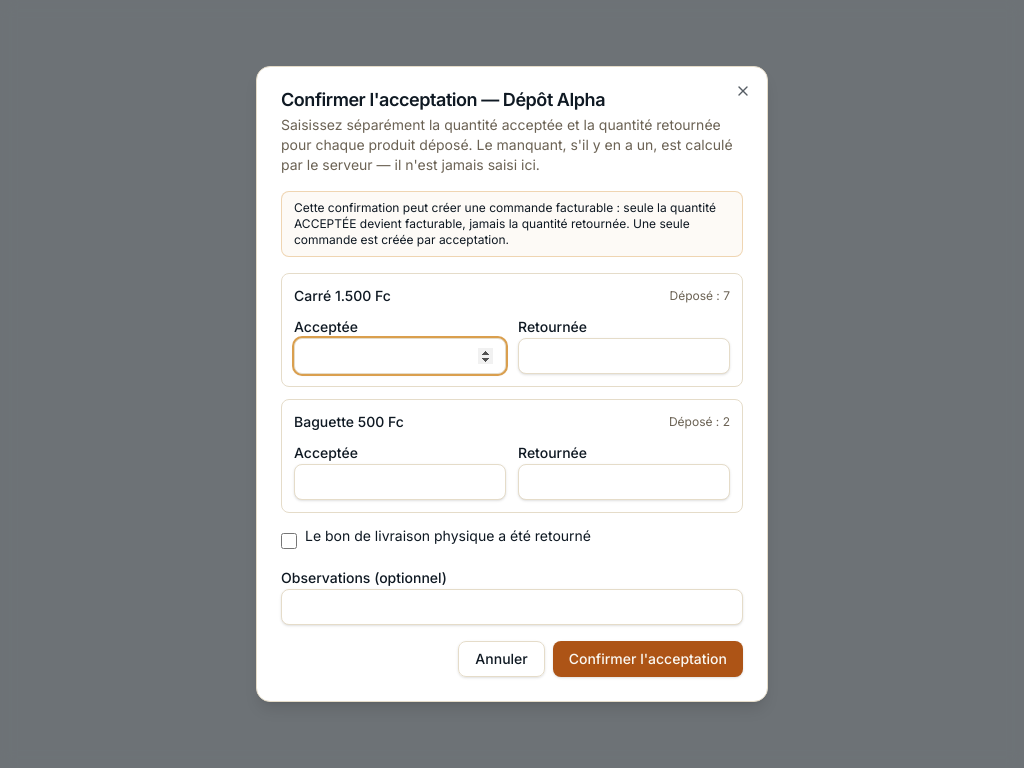
Test: DialogAcceptationCycle — DOM (F5B, vague 3) › succès avec commande créée : message de succès avec numéro et quantité facturable
In the number field labelled "Acceptée" below "Carré 1.500 Fc": (400,356) [294, 338, 506, 374], type "7"
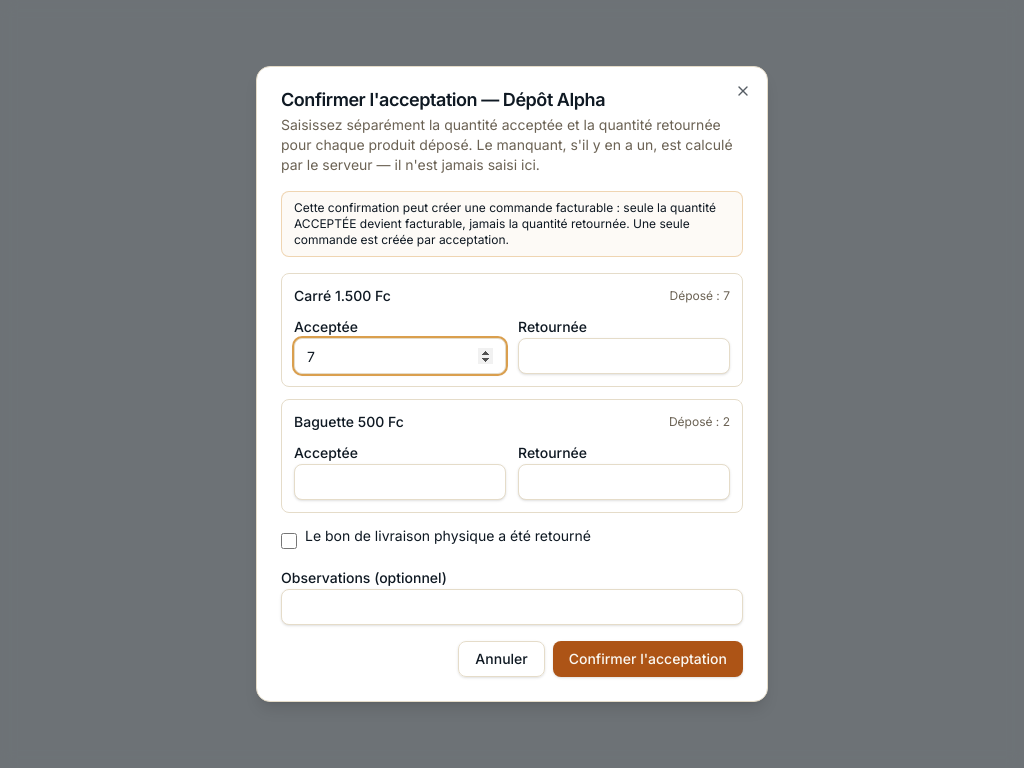
In the number field labelled "Retournée" below "Carré 1.500 Fc": (624,356) [518, 338, 730, 374], type "0"
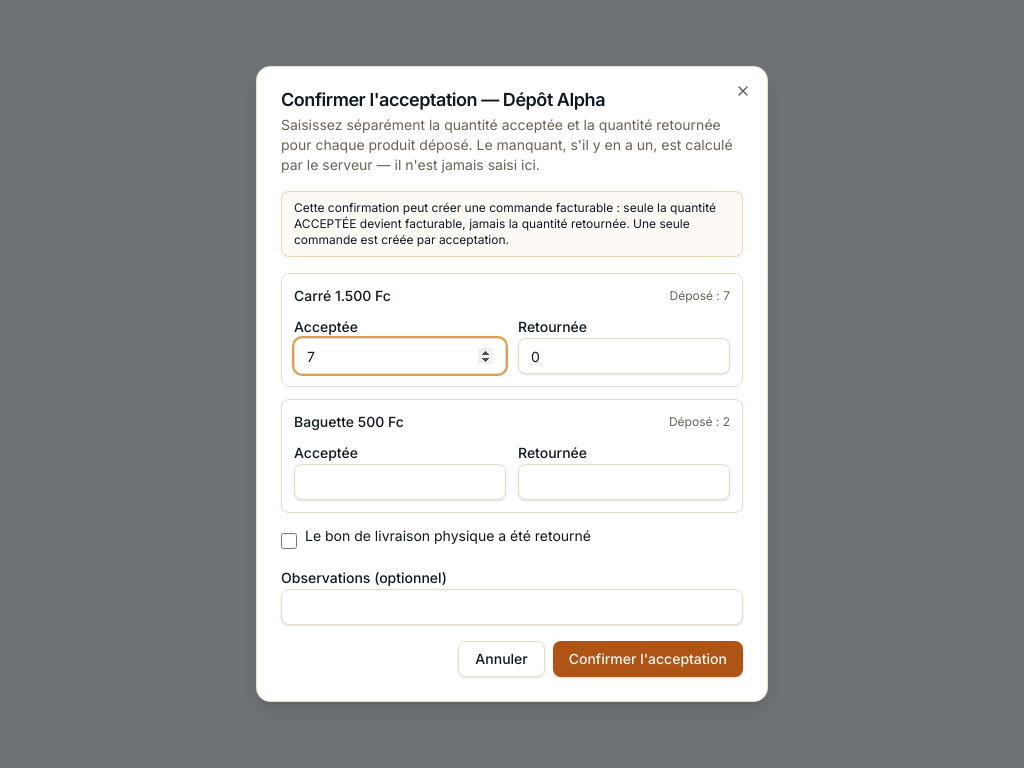
In the number field labelled "Acceptée" below "Baguette 500 Fc": (400,482) [294, 464, 506, 500], type "2"
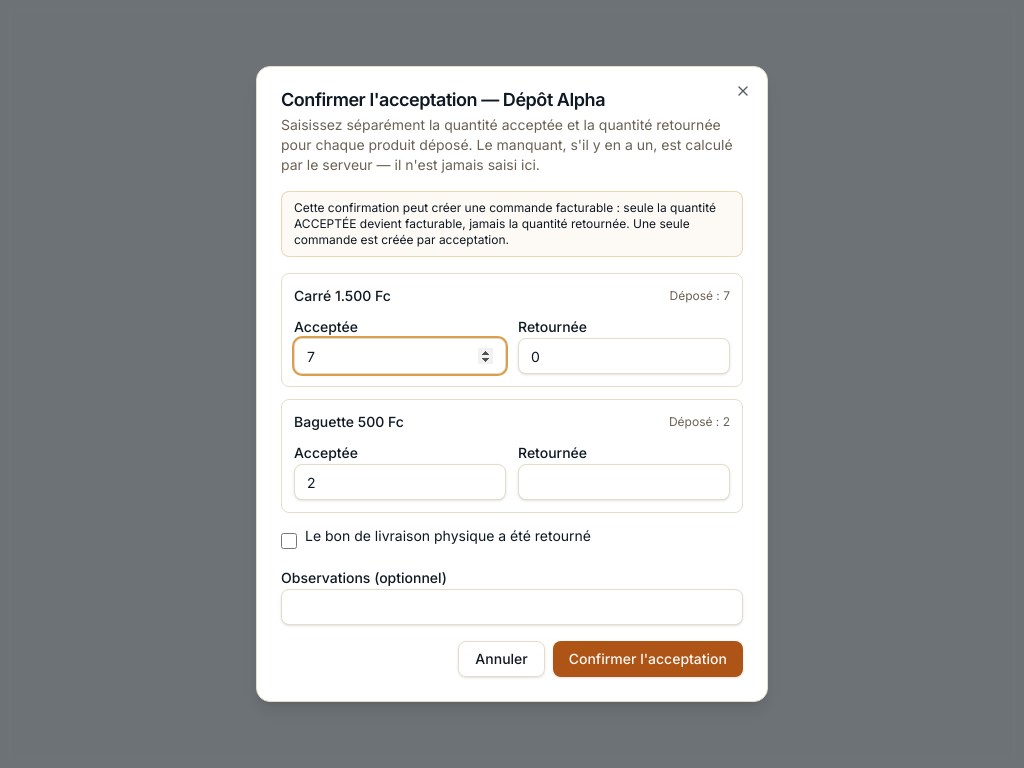
In the number field labelled "Retournée" below "Baguette 500 Fc": (624,482) [518, 464, 730, 500], type "0"
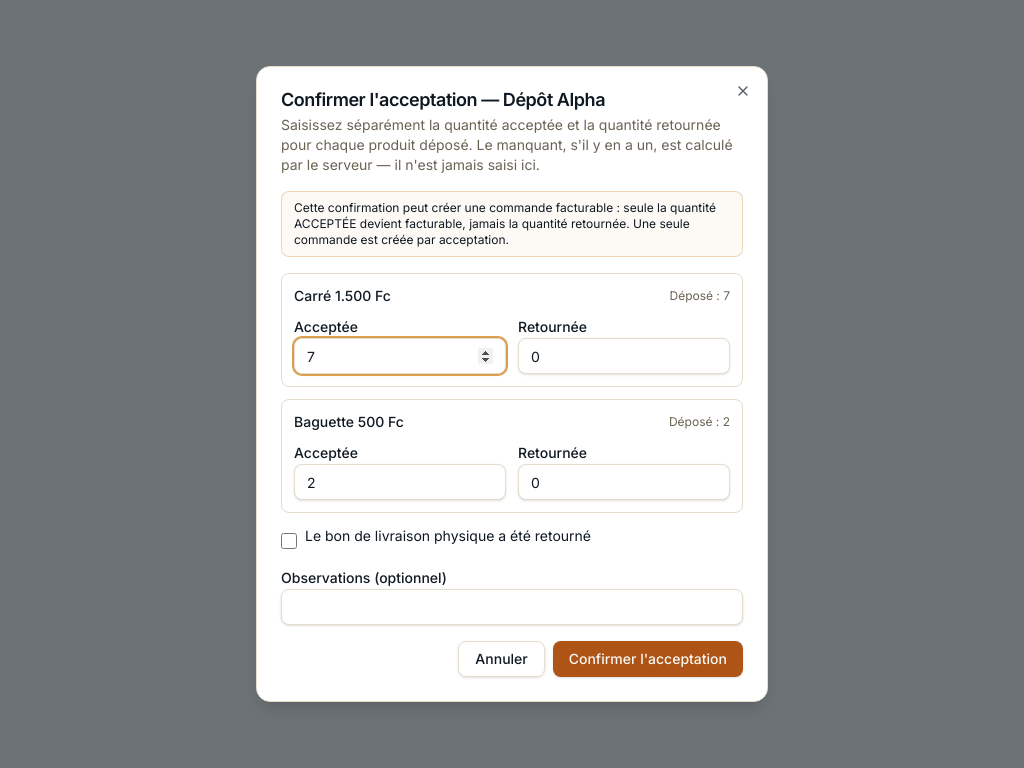
Click the button "Confirmer l'acceptation": (648,659) [553, 641, 743, 677]
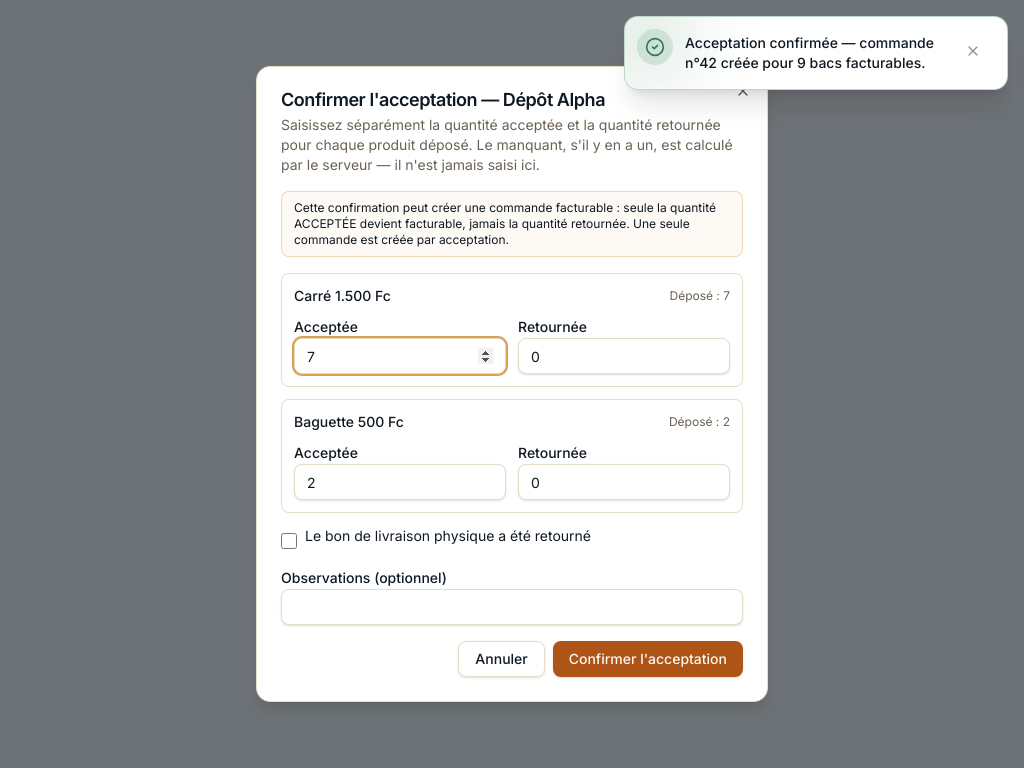
Check: the text "commande n°42 créée pour 9 bacs" is shown, box [685, 34, 934, 71]
